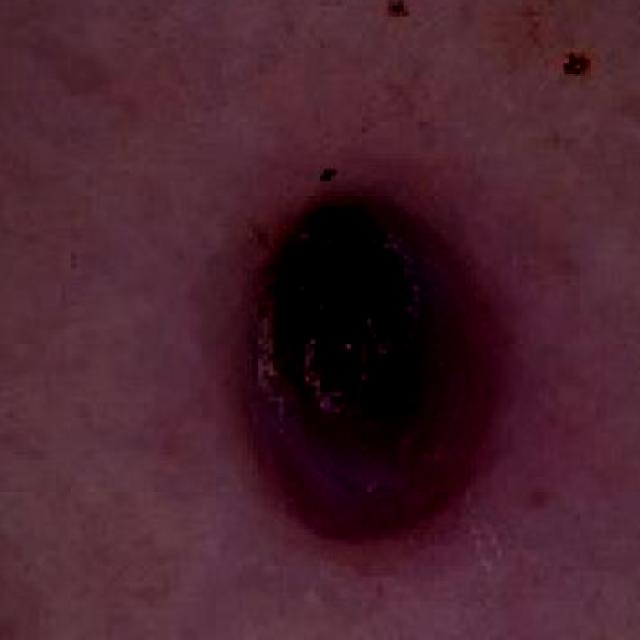VASC: (202, 135, 550, 583)
